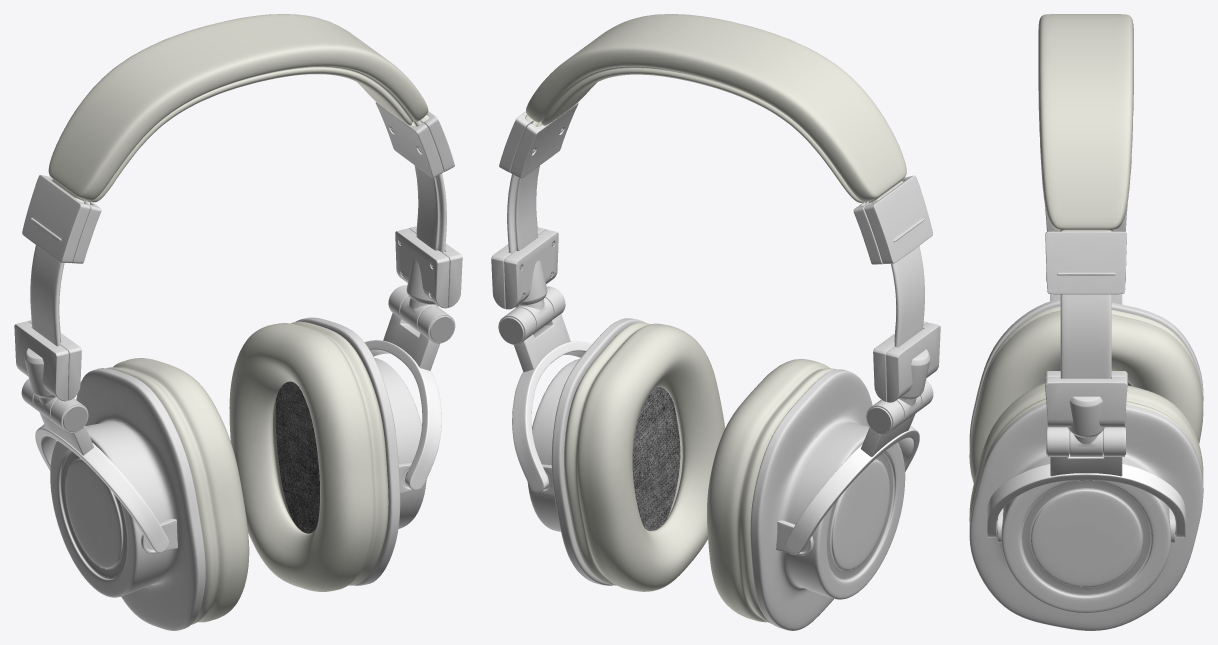
File: headphone.glb
3 views of the same model, side by side, from view 1: azimuth 30°, elevation 25°; view 2: azimuth 150°, elevation 25°; view 3: azimuth 270°, elevation 25° (orthographic). The views are drawn at different scales.
Parts seen in each view (by area): view 1: 8 EarCab.001, 7 EarCover.001, 02 FabricBar.001, 2 X Connector Top.001, 02 BarEnd.001, 4 EarCoverConnector.001, 01 MetalBar.001, 2 X Connector Bottom.001, 3 Logo.001, 6 EarCoverHole.001; view 2: 8 EarCab.001, 7 EarCover.001, 02 FabricBar.001, 2 X Connector Top.001, 02 BarEnd.001, 4 EarCoverConnector.001, 01 MetalBar.001, 2 X Connector Bottom.001, 3 Logo.001, 6 EarCoverHole.001; view 3: 7 EarCover.001, 02 FabricBar.001, 8 EarCab.001, 02 BarEnd.001, 2 X Connector Top.001, 01 MetalBar.001, 4 EarCoverConnector.001, 2 X Connector Bottom.001, 3 Logo.001.
Boxes of the visible parts, x1,y1,x2,y2 form: 8 EarCab.001: (106, 321, 388, 624); 7 EarCover.001: (50, 317, 426, 630); 02 FabricBar.001: (48, 14, 428, 204); 2 X Connector Top.001: (14, 226, 462, 401); 02 BarEnd.001: (22, 102, 454, 263); 4 EarCoverConnector.001: (35, 340, 441, 552); 01 MetalBar.001: (30, 165, 446, 346); 2 X Connector Bottom.001: (21, 285, 455, 433); 3 Logo.001: (39, 313, 439, 455); 6 EarCoverHole.001: (69, 463, 412, 553); 8 EarCab.001: (564, 322, 835, 623); 7 EarCover.001: (527, 318, 905, 630); 02 FabricBar.001: (525, 14, 906, 205); 2 X Connector Top.001: (491, 227, 940, 402); 02 BarEnd.001: (499, 103, 932, 264); 4 EarCoverConnector.001: (512, 341, 919, 554); 01 MetalBar.001: (507, 166, 924, 347); 2 X Connector Bottom.001: (498, 286, 933, 434); 3 Logo.001: (514, 314, 915, 456); 6 EarCoverHole.001: (541, 464, 885, 555); 7 EarCover.001: (969, 299, 1203, 630); 02 FabricBar.001: (1038, 14, 1133, 231); 8 EarCab.001: (969, 306, 1203, 524); 02 BarEnd.001: (1045, 231, 1126, 294); 2 X Connector Top.001: (1045, 204, 1127, 437); 01 MetalBar.001: (1060, 294, 1111, 378); 4 EarCoverConnector.001: (986, 464, 1185, 537); 2 X Connector Bottom.001: (1046, 272, 1125, 456); 3 Logo.001: (1050, 294, 1122, 476).
Bounding box in the file's own units: 18.37 × 23.23 × 9.08.
8 materials, 1 textured.
